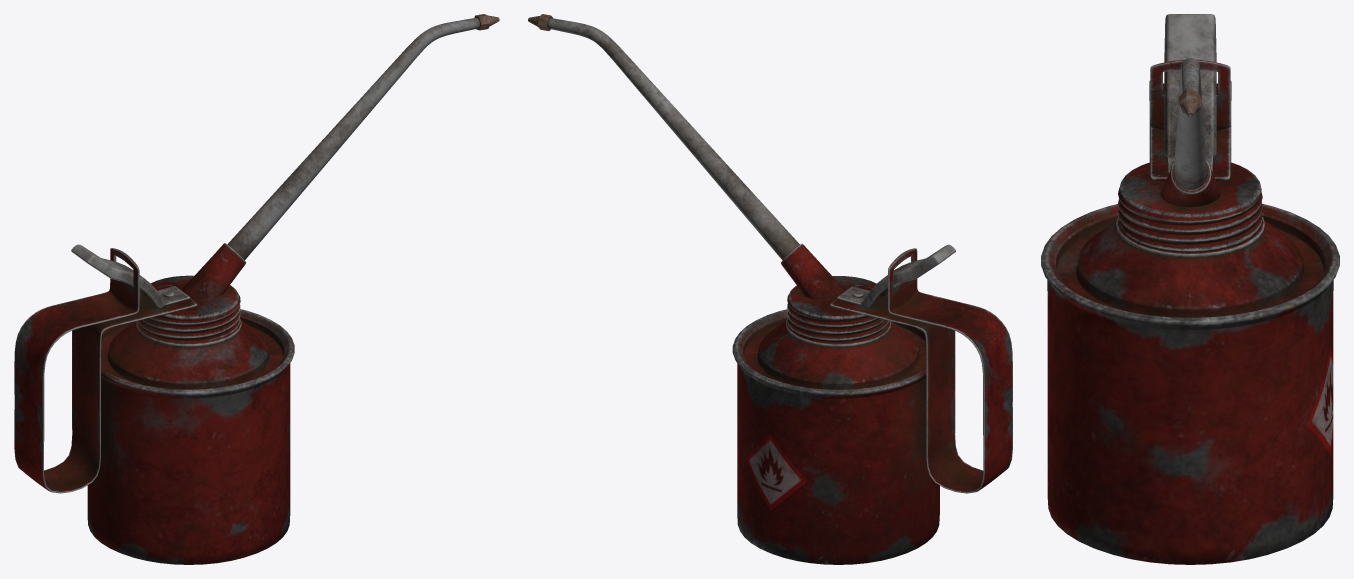
Rendered from small_oil_can.glb.
The picture shows the model from 3 angles, left to right: view 1: azimuth 30°, elevation 25°; view 2: azimuth 150°, elevation 25°; view 3: azimuth 270°, elevation 25°; orthographic projection. The views are drawn at different scales.
Visible parts, largest first — view 1: small_oil_can_01; view 2: small_oil_can_01; view 3: small_oil_can_01.
Part boxes in pixels (<box>): small_oil_can_01: <box>14,14,499,564</box>; small_oil_can_01: <box>528,14,1012,564</box>; small_oil_can_01: <box>1041,14,1339,564</box>.
Bounding box in the file's own units: 0.2661 × 0.2368 × 0.1038.
1 material, 1 textured.
